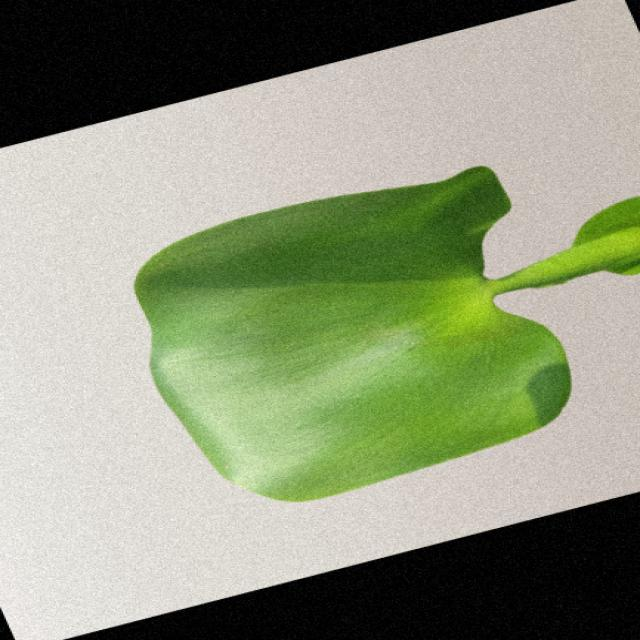daun sehat: (135, 168, 640, 501)
